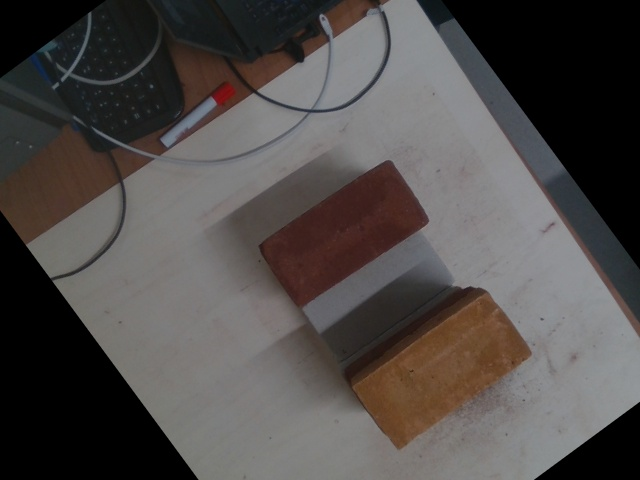brick: (352, 293, 530, 451), (258, 159, 429, 306), (301, 229, 456, 363)
